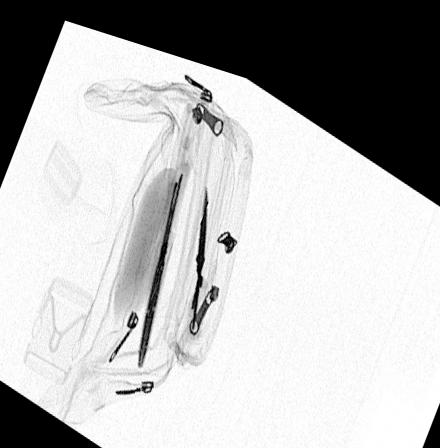Scissors: (132, 159, 185, 365), (188, 169, 210, 323)
